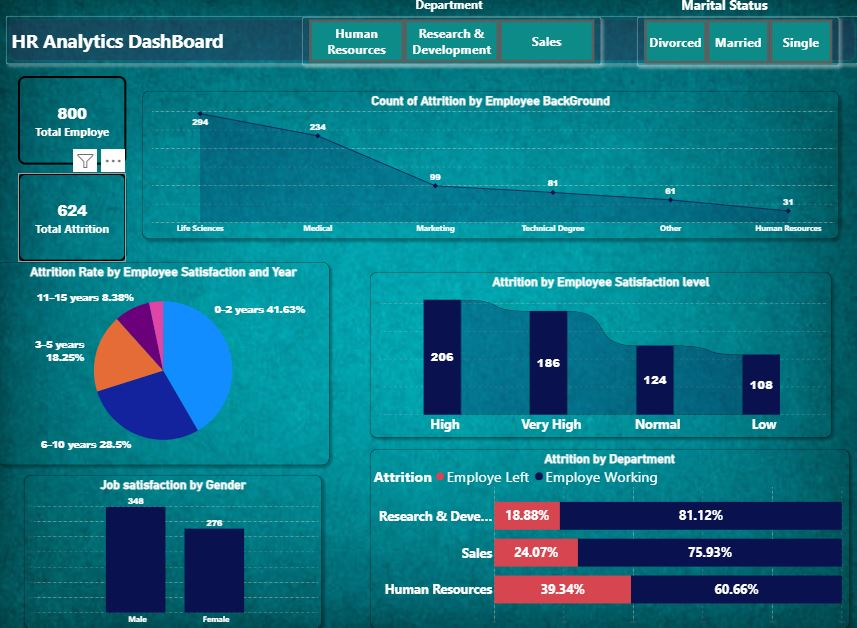

The page's visual inventory and layout, read from the dashboard file:
{"tool":"powerbi","page":{"name":"Page 1","canvas":[3500,2600],"ordinal":0},"visuals":[{"type":"shape","box":[38.1,88.9,3461.9,194.7],"z":0},{"type":"slicer","fields":{"Values":["data.Department"]},"box":[1240,93.1,1214.6,194.7],"z":2000},{"type":"card","fields":{"Values":["CountNonNull(data.Total Employee)"]},"box":[84.6,334.3,440.1,359.7],"z":3000},{"type":"slicer","fields":{"Values":["data.MaritalStatus"]},"box":[2598.5,93.1,821,198.9],"z":4000},{"type":"textbox","box":[1692.9,4.2,308.9,88.9],"z":5000},{"type":"textbox","box":[2776.3,0,376.7,101.6],"z":6000},{"type":"hundredPercentStackedBarChart","title":" Attrition by Department ","fields":{"Category":["data.Department"],"Y":["CountNonNull(data.Attrition)"],"Series":["data.Attrition"]},"box":[1515.1,1849.5,1946.8,732.2],"z":7000},{"type":"ribbonChart","title":"Attrition by Employee Satisfaction level","fields":{"Category":["data.Employee Satisfaction level"],"Y":["CountNonNull(data.Attrition)"]},"box":[1515.1,1130,1874.8,672.9],"z":8000},{"type":"columnChart","title":" Job satisfaction by Gender","fields":{"Category":["data.Gender"],"Y":["CountNonNull(data.Job satisfaction)"]},"box":[110,1955.3,1210.4,626.4],"z":9000},{"type":"pieChart","title":"Attrition Rate by Employee Satisfaction and Year","fields":{"Y":["CountNonNull(data.Attrition)"],"Category":["data.Employee Total current  Yaer"]},"box":[0,1087.7,1350.1,825.3],"z":10000},{"type":"areaChart","fields":{"Category":["data.Employee BackGround"],"Y":["CountNonNull(data.Attrition)"]},"box":[588.3,393.6,2831.3,601],"z":11000},{"type":"card","fields":{"Values":["CountNonNull(data.Attrition)"]},"box":[84.6,727.9,440.1,359.7],"z":11001}]}

Visuals, with their boxes in screenshot pixels (x1, y1, x2, y2), scaled from the page's 3500x2600 canvas onto the 857x628 screenshot:
shape: (9, 21, 856, 69)
slicer - data.Department: (304, 22, 601, 70)
card - CountNonNull(data.Total Employee): (21, 81, 128, 168)
slicer - data.MaritalStatus: (636, 22, 837, 71)
textbox: (415, 1, 490, 22)
textbox: (680, 0, 772, 25)
" Attrition by Department " hundredPercentStackedBarChart: (371, 447, 848, 624)
"Attrition by Employee Satisfaction level" ribbonChart: (371, 273, 830, 435)
" Job satisfaction by Gender" columnChart: (27, 472, 323, 624)
"Attrition Rate by Employee Satisfaction and Year" pieChart: (0, 263, 331, 462)
areaChart - data.Employee BackGround x CountNonNull(data.Attrition): (144, 95, 837, 240)
card - CountNonNull(data.Attrition): (21, 176, 128, 263)
